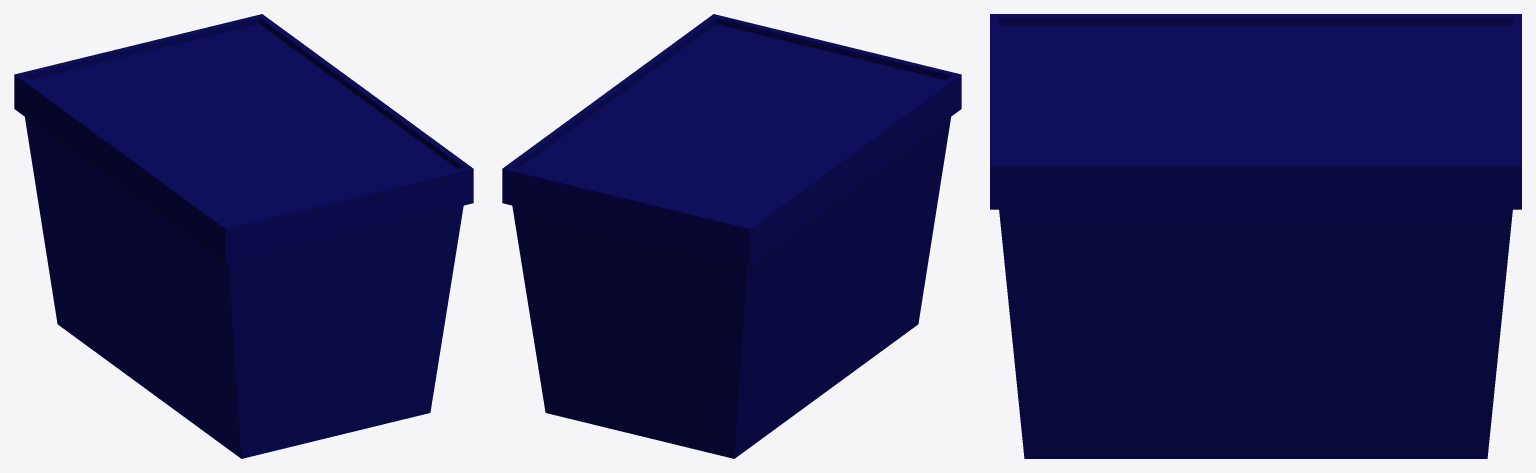
The model's file is plastic_box.FBX.
The picture shows the model from 3 angles, left to right: view 1: azimuth 30°, elevation 25°; view 2: azimuth 150°, elevation 25°; view 3: azimuth 270°, elevation 25°; orthographic projection. The views are drawn at different scales.
Visible parts, largest first — view 1: plastic_box; view 2: plastic_box; view 3: plastic_box.
Boxes of the visible parts, x1,y1,x2,y2 form: plastic_box: [14, 14, 473, 458]; plastic_box: [502, 14, 961, 458]; plastic_box: [990, 14, 1521, 458].
Size of the model in its own units: 50.4 by 48 by 74.4.
